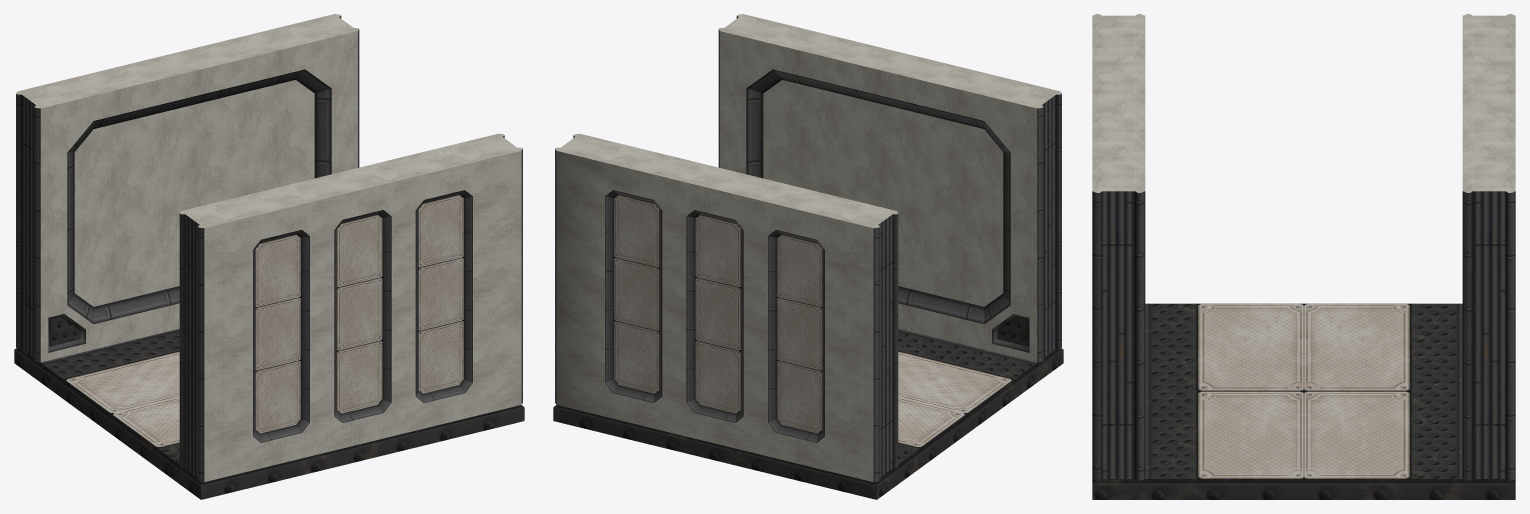
The model's file is Corridor_Corridor_Rework.fbx.
The picture shows the model from 3 angles, left to right: view 1: azimuth 30°, elevation 25°; view 2: azimuth 150°, elevation 25°; view 3: azimuth 270°, elevation 25°; orthographic projection. The views are drawn at different scales.
Parts seen in each view (by area): view 1: Corridor_Corridor; view 2: Corridor_Corridor; view 3: Corridor_Corridor.
Boxes of the visible parts, x1,y1,x2,y2 form: Corridor_Corridor: (14, 14, 524, 499); Corridor_Corridor: (553, 14, 1063, 499); Corridor_Corridor: (1092, 14, 1515, 499).
Size of the model in its own units: 400 by 320 by 400.
